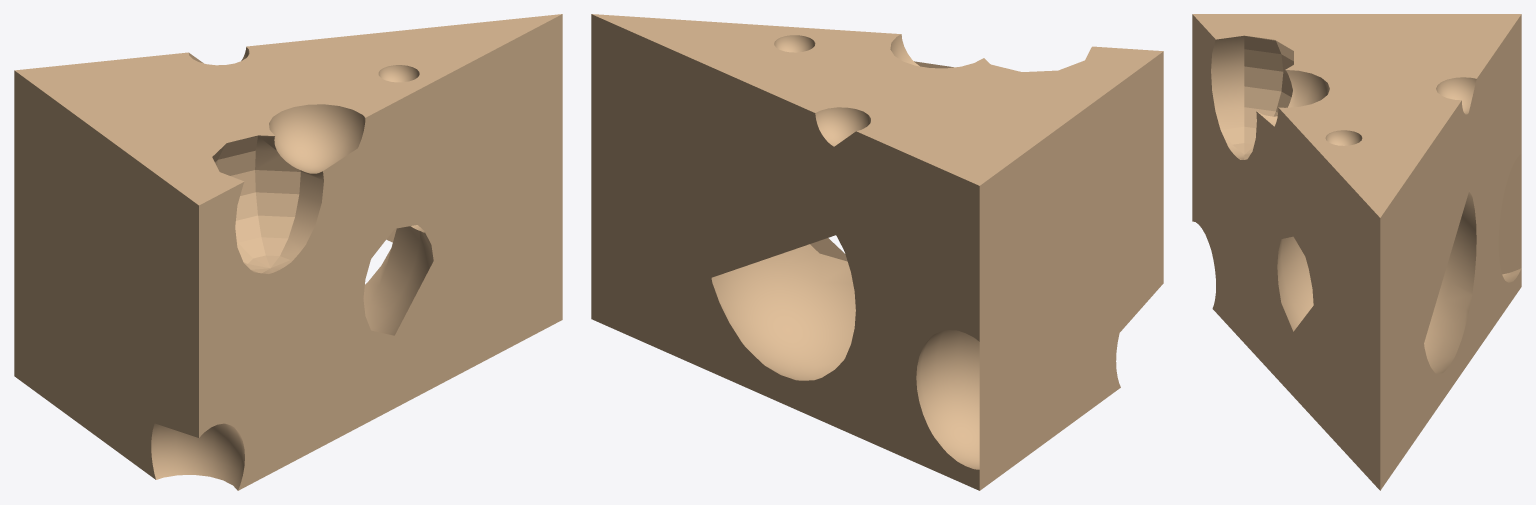
The model's file is PRP_Cheese.fbx.
3 views of the same model, side by side, from view 1: azimuth 30°, elevation 25°; view 2: azimuth 150°, elevation 25°; view 3: azimuth 270°, elevation 25° (orthographic). The views are drawn at different scales.
Parts seen in each view (by area): view 1: polySurface14; view 2: polySurface14; view 3: polySurface14.
Boxes of the visible parts, x1,y1,x2,y2 form: polySurface14: [14, 14, 562, 490]; polySurface14: [591, 14, 1163, 490]; polySurface14: [1192, 14, 1521, 490].
Size of the model in its own units: 0.2049 by 0.1278 by 0.1398.
